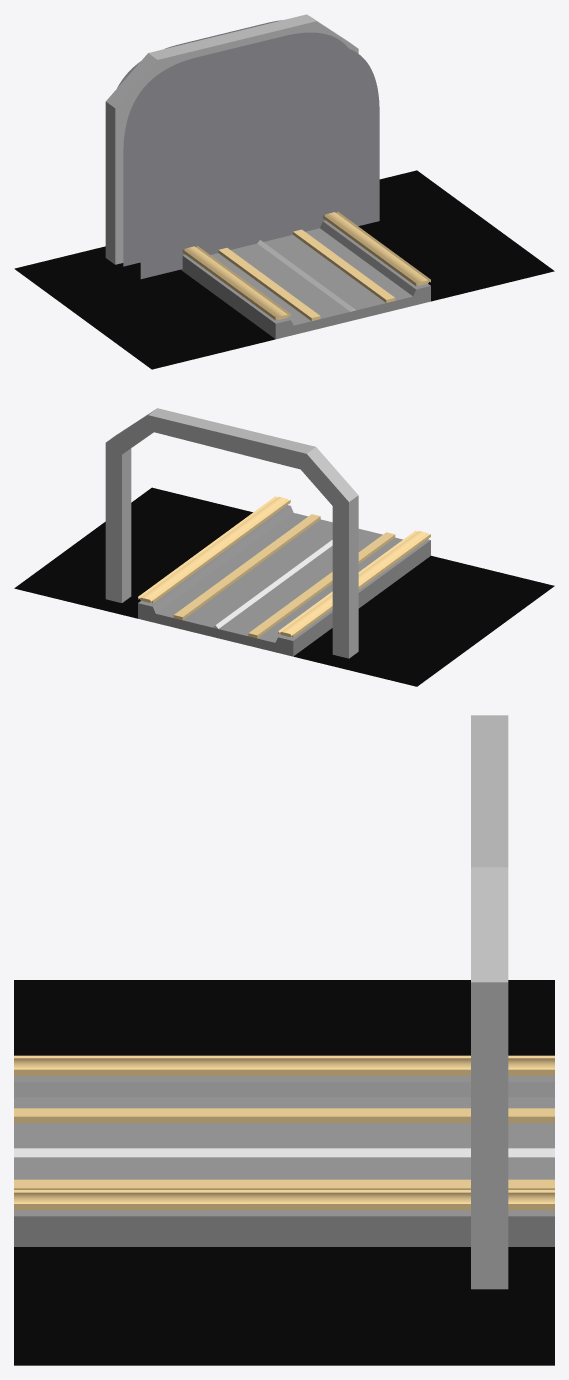
The model's file is station__message--wasbon.glb.
3 views of the same model, one above another, from view 1: azimuth 30°, elevation 25°; view 2: azimuth 150°, elevation 25°; view 3: azimuth 270°, elevation 25° (orthographic). The views are drawn at different scales.
Visible parts, largest first — view 1: lottie_front, _basefloor, road, Boolean, autowasbon__txt, road__top--left, road__top--right, road__rail--right, road__rail--left, road__rail--middle; view 2: _basefloor, road, Boolean, road__top--right, road__top--left, road__rail--right, road__rail--left, road__rail--middle; view 3: _basefloor, road, Boolean, road__top--left, road__top--right, road__rail--left, road__rail--right, road__rail--middle.
Part boxes in pixels (x1,y1,x2,y2): lottie_front: (140, 45, 379, 279); _basefloor: (14, 170, 554, 369); road: (181, 220, 430, 339); Boolean: (105, 14, 358, 264); autowasbon__txt: (123, 32, 348, 266); road__top--left: (182, 246, 290, 320); road__top--right: (323, 211, 430, 285); road__rail--right: (293, 229, 395, 302); road__rail--left: (218, 248, 320, 321); road__rail--middle: (257, 240, 355, 311); _basefloor: (14, 487, 554, 686); road: (138, 505, 430, 656); Boolean: (105, 408, 358, 658); road__top--right: (138, 496, 290, 603); road__top--left: (278, 530, 430, 637); road__rail--right: (173, 514, 320, 620); road__rail--left: (248, 532, 395, 638); road__rail--middle: (213, 540, 332, 628); _basefloor: (14, 980, 554, 1365); road: (14, 1076, 554, 1246); Boolean: (471, 715, 508, 1289); road__top--left: (14, 1055, 554, 1075); road__top--right: (14, 1190, 554, 1210); road__rail--left: (14, 1108, 554, 1122); road__rail--right: (14, 1179, 554, 1189); road__rail--middle: (14, 1148, 554, 1157).
Size of the model in its own units: 10.8 by 4.98 by 6.4.
